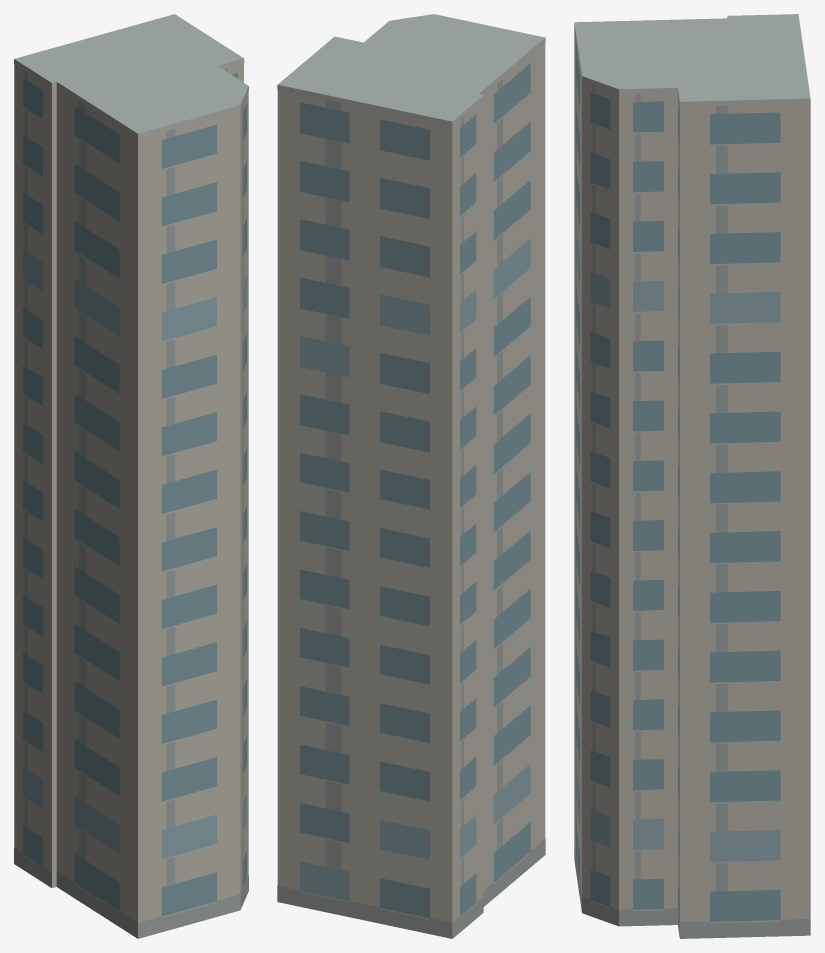
File: survey-upis-32671173.glb
3 views of the same model, side by side, from view 1: azimuth 30°, elevation 25°; view 2: azimuth 150°, elevation 25°; view 3: azimuth 270°, elevation 25° (orthographic). The views are drawn at different scales.
Visible parts, largest first — view 1: survey-upis-32671173.tmp; view 2: survey-upis-32671173.tmp; view 3: survey-upis-32671173.tmp.
Part boxes in pixels (x1,y1,x2,y2): survey-upis-32671173.tmp: (14, 14, 248, 938); survey-upis-32671173.tmp: (277, 14, 545, 938); survey-upis-32671173.tmp: (574, 14, 810, 938).
Size of the model in its own units: 8.83 by 39.2 by 10.04.
